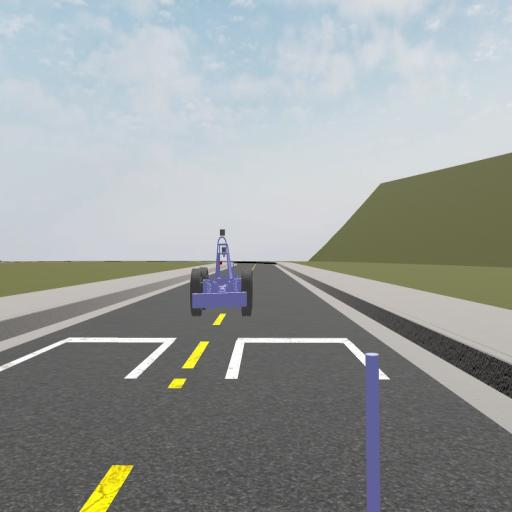ERP-42: (190, 226, 253, 316)
